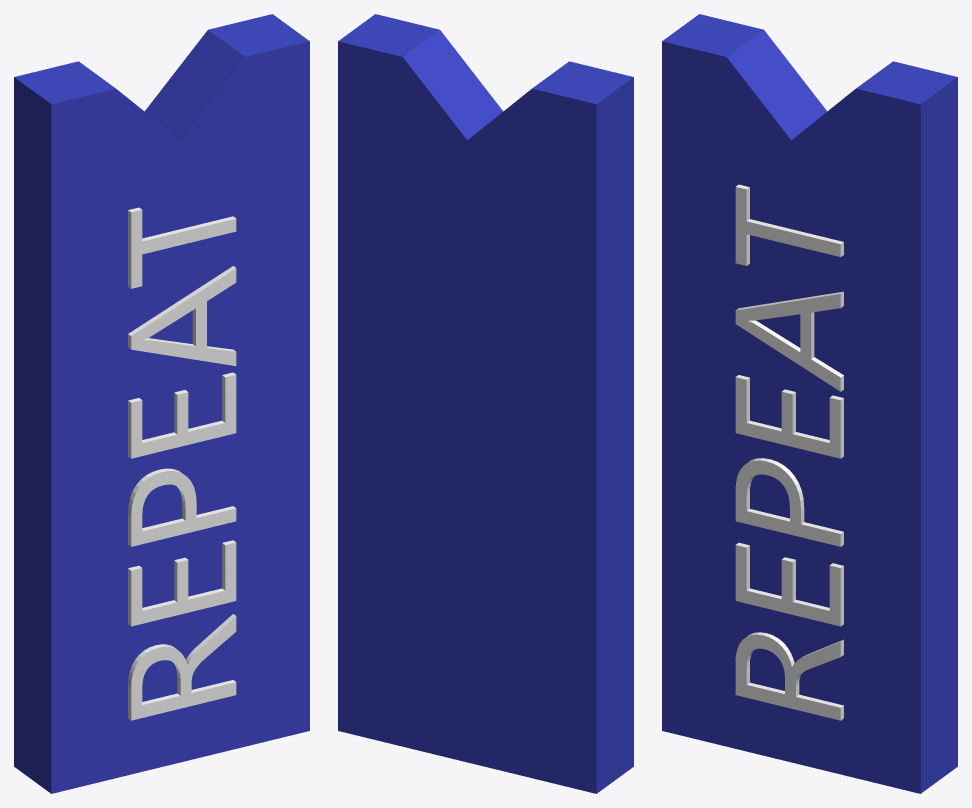
Rendered from repeat_all.obj.
3 views of the same model, side by side, from view 1: azimuth 30°, elevation 25°; view 2: azimuth 150°, elevation 25°; view 3: azimuth 330°, elevation 25° (orthographic).
Visible parts, largest first — view 1: Object.7, Object.4, Object.6, Object.1, Object.3, Object.5, Object.2; view 2: Object.7; view 3: Object.7, Object.4, Object.6, Object.1, Object.3, Object.5, Object.2.
Boxes of the visible parts, x1,y1,x2,y2 form: Object.7: (14, 14, 309, 793); Object.4: (128, 614, 236, 720); Object.6: (128, 266, 236, 365); Object.1: (128, 468, 236, 546); Object.3: (128, 540, 236, 626); Object.5: (128, 372, 236, 458); Object.2: (128, 207, 236, 288); Object.7: (338, 14, 633, 793); Object.7: (662, 14, 957, 793); Object.4: (735, 632, 843, 720); Object.6: (735, 291, 843, 391); Object.1: (735, 458, 843, 546); Object.3: (735, 542, 843, 626); Object.5: (735, 375, 843, 458); Object.2: (735, 184, 843, 265).
Size of the model in its own units: 40 by 102 by 10.85.
